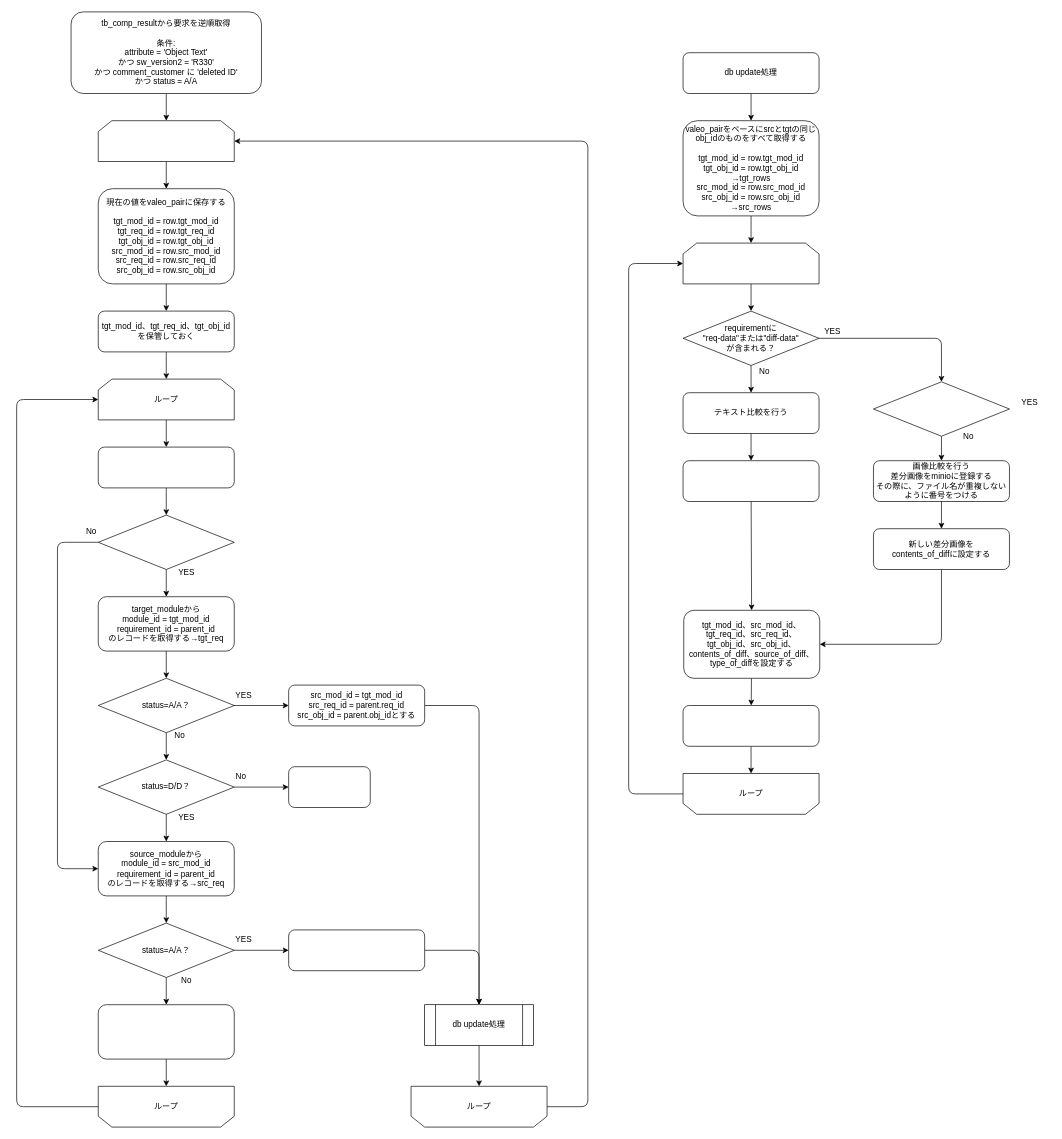
This 1062x1139 diagram has some shape labels left out. Each missing label, with the centre of its shape:
"contents_of_diff、source_of_diff へセットする 片方が空の場合でも同じ" belongs at point 750,481.
"DBをアップデートする" belongs at point 750,725.
"parent_idのレコードを次 のrowにする" belongs at point 166,1031.
"src_mod_id = src_mod_id src_req_id = src.req_id src_obj_id = src_obj_idとする" belongs at point 356,950.
"src_obj_id == tgt_obj_id？" belongs at point 166,542.
"tgt_reqのcomment_customer から deleted ID を取り出し、parent_idとする" belongs at point 166,467.
"それぞれの要求でループ" belongs at point 166,141.
"エラー" belongs at point 329,787.
"ループ どちらか多い方の rowsの数だけループする" belongs at point 750,263.
"片方がない？" belongs at point 941,408.
